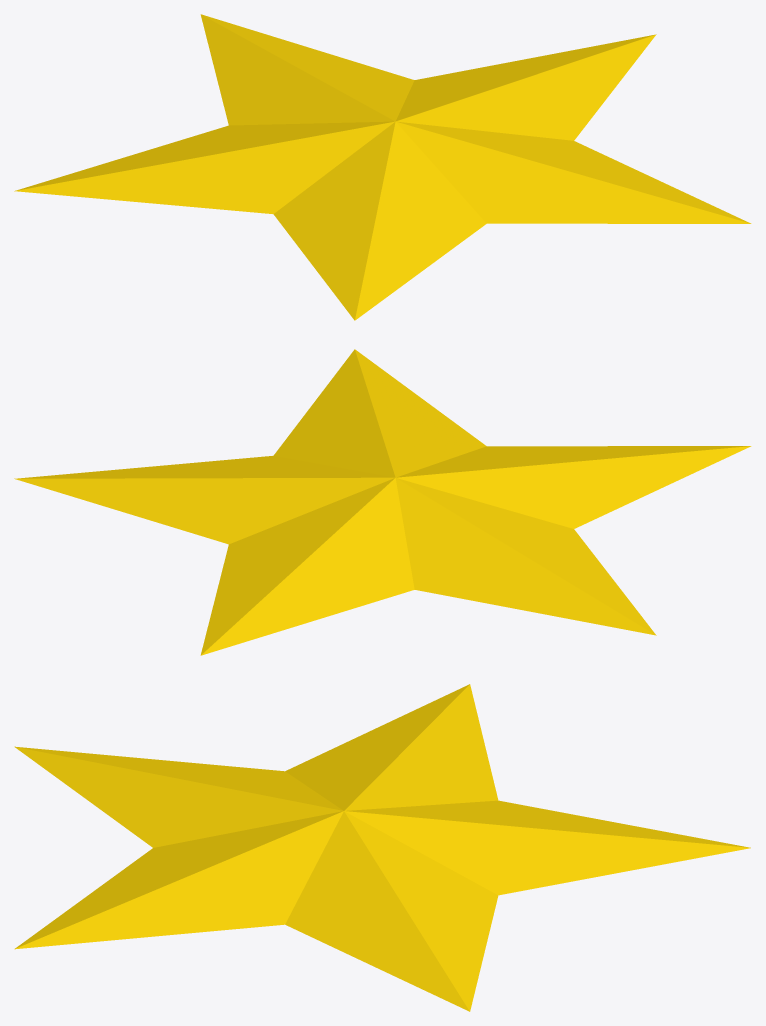
The model's file is star.dae.
3 views of the same model, one above another, from view 1: azimuth 30°, elevation 25°; view 2: azimuth 150°, elevation 25°; view 3: azimuth 270°, elevation 25° (orthographic). The views are drawn at different scales.
Parts seen in each view (by area): view 1: Circle; view 2: Circle; view 3: Circle.
Boxes of the visible parts, left/top/right/bottom form: Circle: left=14, top=14, right=751, bottom=320; Circle: left=14, top=349, right=751, bottom=655; Circle: left=14, top=684, right=750, bottom=1011.
Size of the model in its own units: 1.9 by 1.81 by 0.2.
